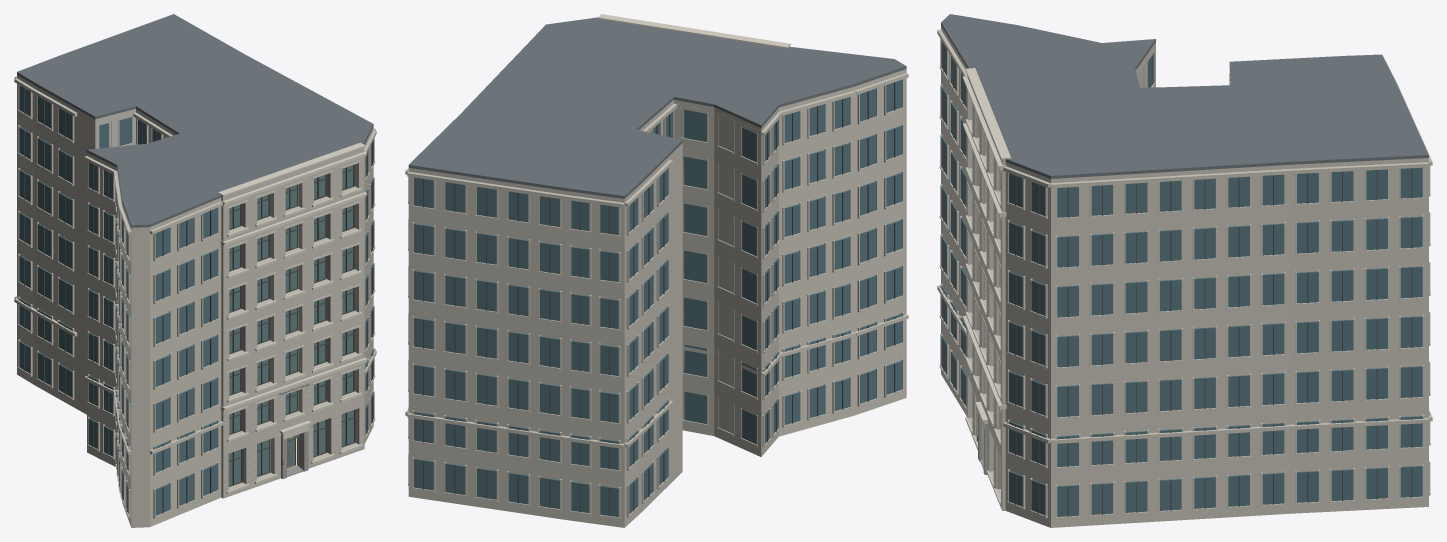
The model's file is con-exterior-4d88ac0995a3.glb.
3 renders of one model, left to right at view 1: azimuth 30°, elevation 25°; view 2: azimuth 150°, elevation 25°; view 3: azimuth 270°, elevation 25°, orthographic. The views are drawn at different scales.
Parts seen in each view (by area): view 1: CON.001; view 2: CON.001; view 3: CON.001.
Boxes of the visible parts, x1,y1,x2,y2 form: CON.001: (14,14,376,527); CON.001: (405,14,908,527); CON.001: (937,14,1432,527).
Bounding box in the file's own units: 29.43 × 29.36 × 37.3.
